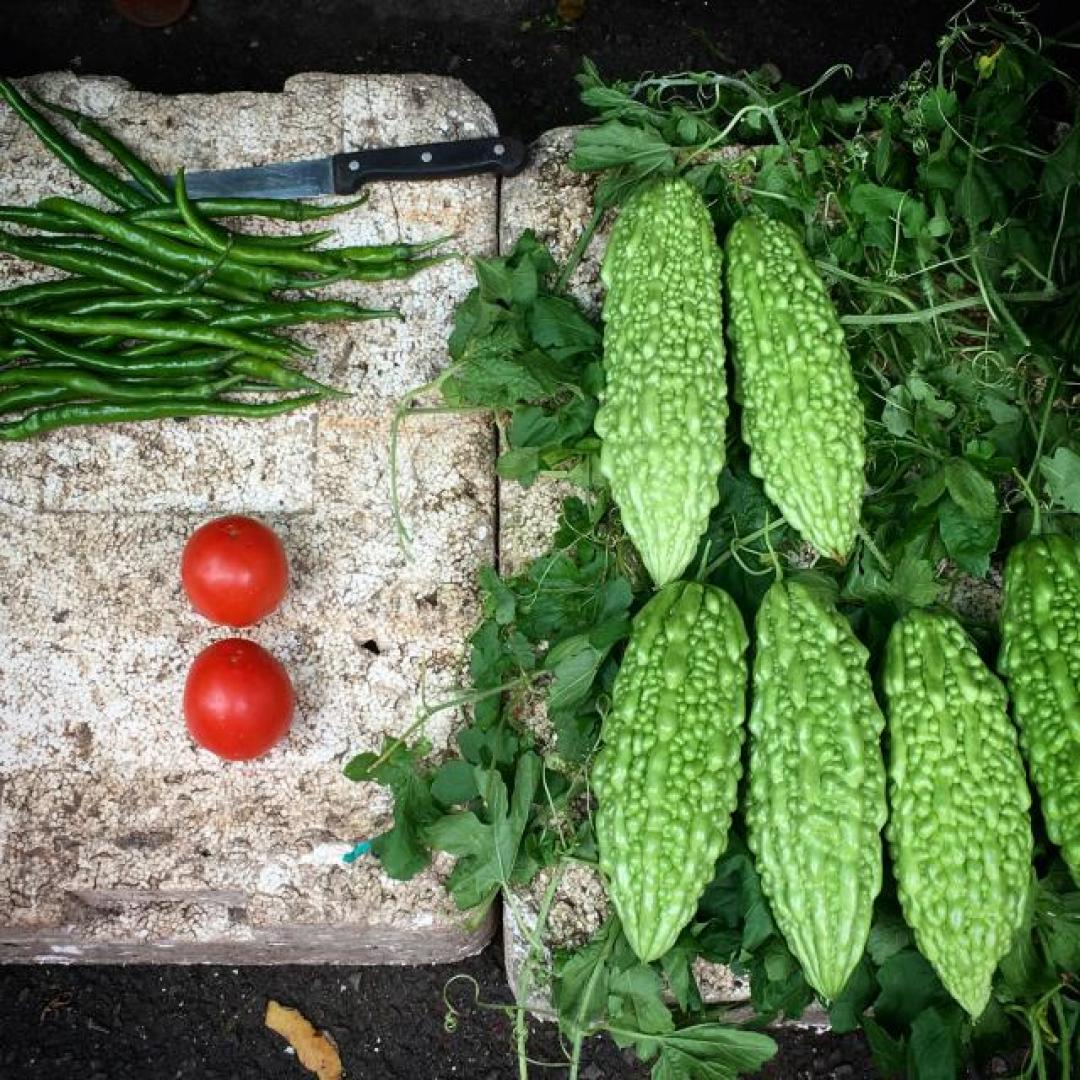matang: (184, 638, 294, 761), (181, 518, 290, 630)
